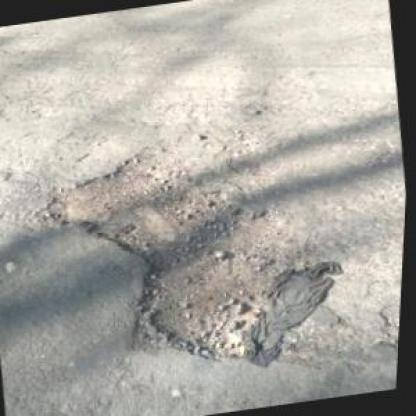pothole: (31, 126, 327, 390)
